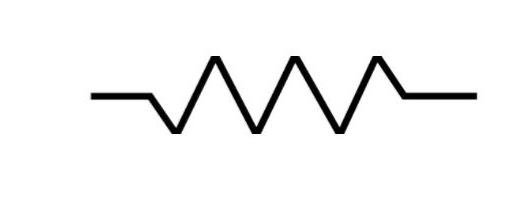resistor: (119, 37, 428, 149)
